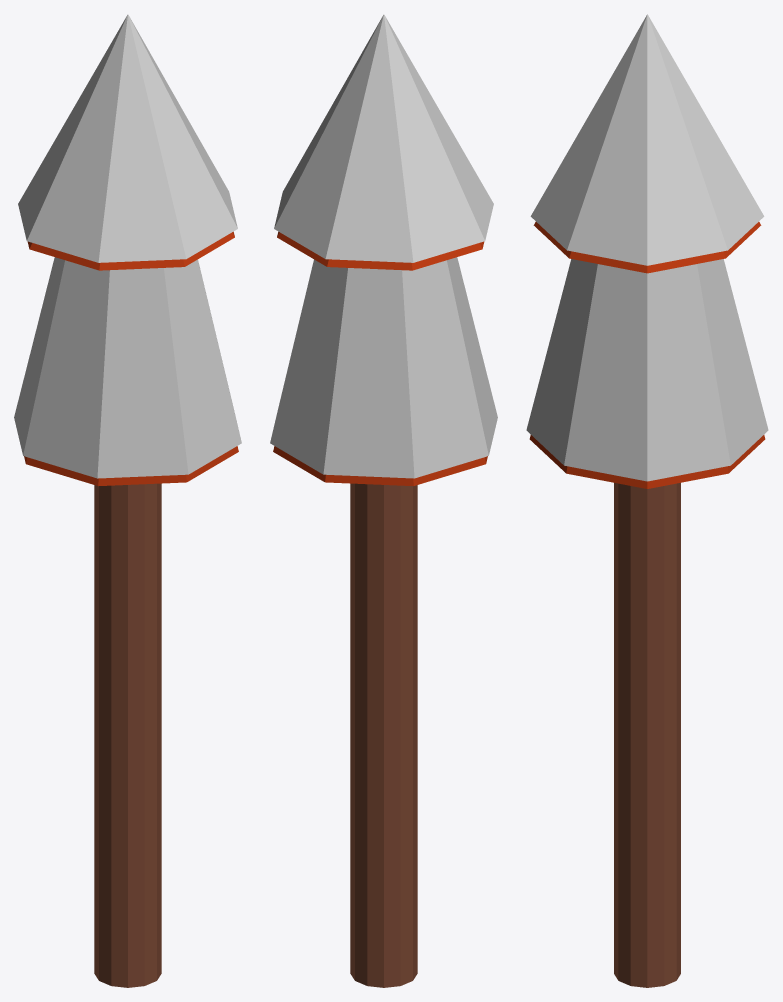
The model's file is Tree_21_winter_red_mat.fbx.
3 renders of one model, left to right at view 1: azimuth 30°, elevation 25°; view 2: azimuth 150°, elevation 25°; view 3: azimuth 270°, elevation 25°, orthographic.
Parts seen in each view (by area): view 1: Tree_21_winter_red_mat; view 2: Tree_21_winter_red_mat; view 3: Tree_21_winter_red_mat.
Boxes of the visible parts, bbox=[...] form: Tree_21_winter_red_mat: bbox=[14, 14, 241, 987]; Tree_21_winter_red_mat: bbox=[270, 14, 497, 987]; Tree_21_winter_red_mat: bbox=[526, 14, 768, 987].
Size of the model in its own units: 80.03 by 350 by 80.03.
